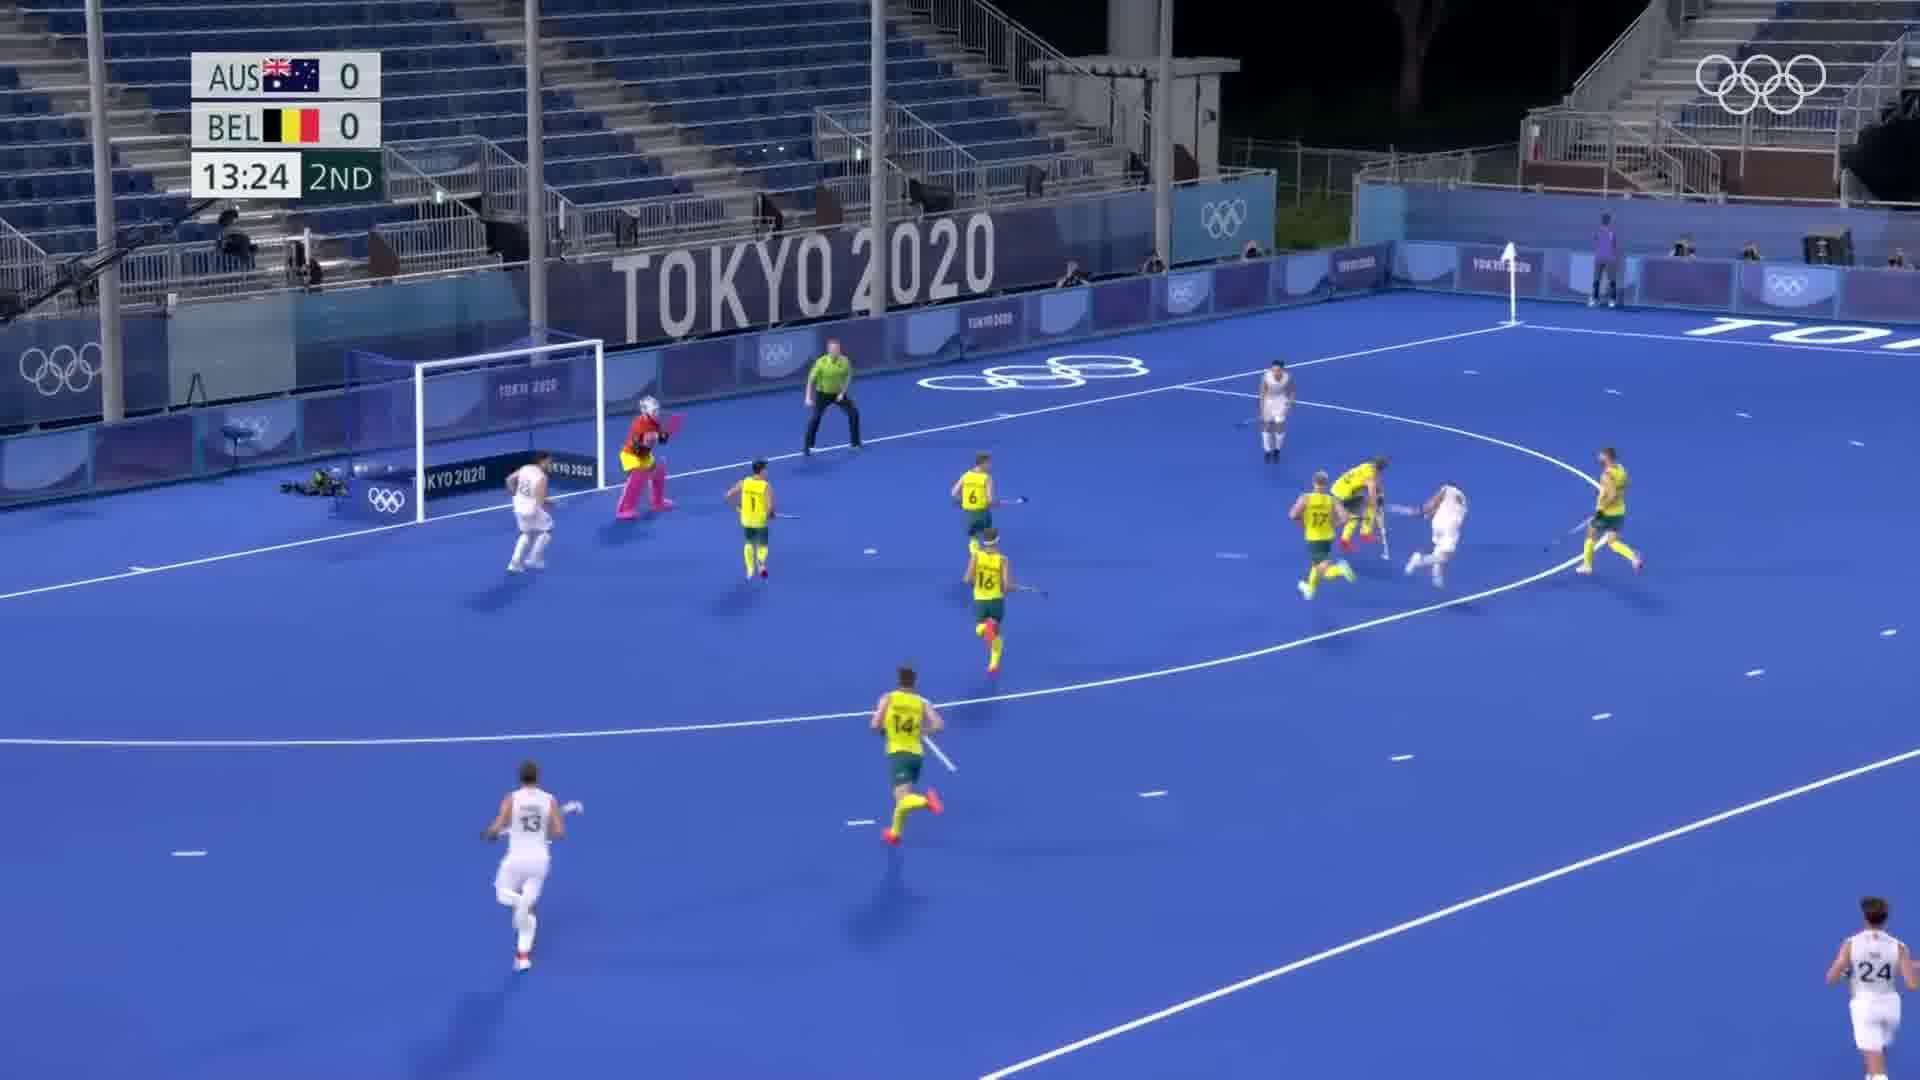ball: (1208, 533, 1251, 580)
